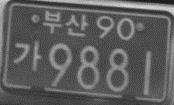0: (117, 16, 135, 41)
1: (141, 49, 154, 97)
8: (76, 44, 100, 90), (107, 47, 129, 91)
9: (48, 42, 73, 88), (95, 14, 115, 40)
가: (12, 38, 43, 72)
부산_O: (42, 9, 88, 37)
